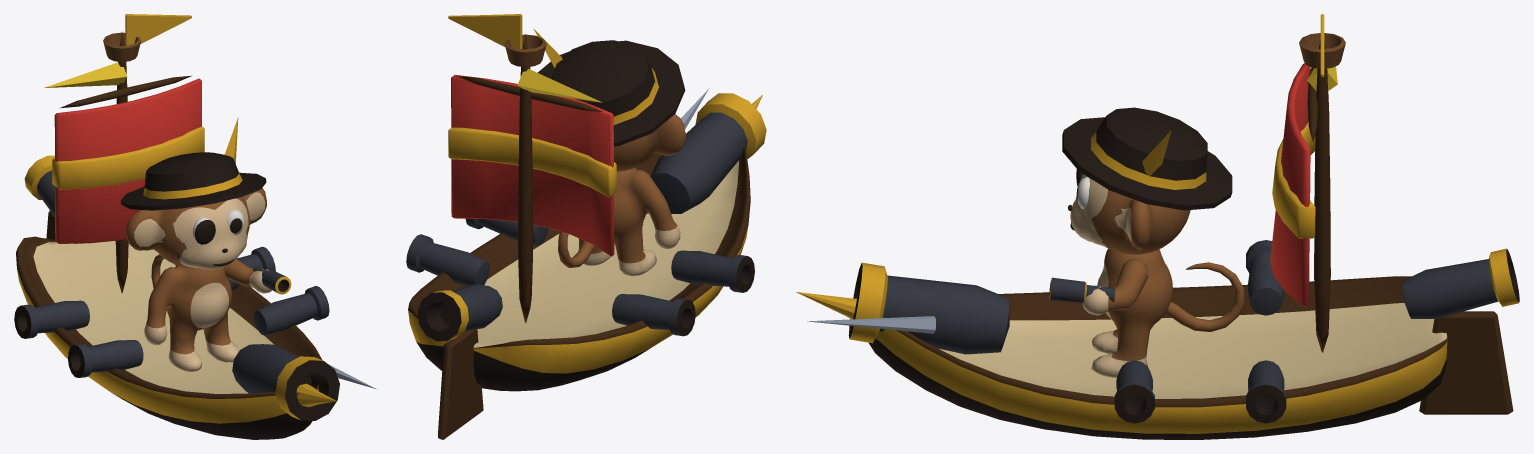
3 views of the same model, side by side, from view 1: azimuth 30°, elevation 25°; view 2: azimuth 150°, elevation 25°; view 3: azimuth 270°, elevation 25° (orthographic). The views are drawn at different scales.
Parts seen in each view (by area): view 1: bucaneiro_0_base, bucaneiro_3_cabeca, bucaneiro_1_corpo, bucaneiro_4_torreta, bucaneiro_5_braco; view 2: bucaneiro_0_base, bucaneiro_3_cabeca, bucaneiro_4_torreta, bucaneiro_1_corpo, bucaneiro_2_cauda; view 3: bucaneiro_0_base, bucaneiro_3_cabeca, bucaneiro_4_torreta, bucaneiro_1_corpo, bucaneiro_5_braco, bucaneiro_2_cauda.
Boxes of the visible parts, <box> form: bucaneiro_0_base: <box>14,14,376,439</box>; bucaneiro_3_cabeca: <box>120,117,266,269</box>; bucaneiro_1_corpo: <box>144,265,238,371</box>; bucaneiro_4_torreta: <box>24,155,339,420</box>; bucaneiro_5_braco: <box>223,259,291,294</box>; bucaneiro_0_base: <box>406,14,762,439</box>; bucaneiro_3_cabeca: <box>533,28,686,171</box>; bucaneiro_4_torreta: <box>417,93,766,341</box>; bucaneiro_1_corpo: <box>578,167,680,276</box>; bucaneiro_2_cauda: <box>558,231,594,267</box>; bucaneiro_0_base: <box>796,14,1513,439</box>; bucaneiro_3_cabeca: <box>1062,107,1232,254</box>; bucaneiro_4_torreta: <box>848,248,1519,354</box>; bucaneiro_1_corpo: <box>1091,248,1172,377</box>; bucaneiro_5_braco: <box>1049,258,1147,315</box>; bucaneiro_2_cauda: <box>1165,262,1244,331</box>.
Size of the model in its own units: 1.12 by 1.43 by 2.32.
